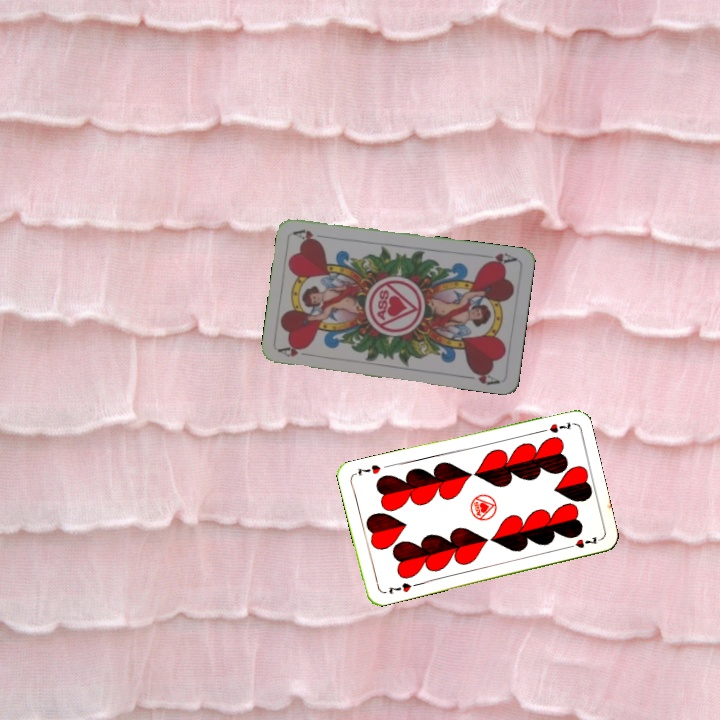H7: (535, 418, 575, 436), (384, 579, 420, 597)
HA: (478, 249, 519, 268), (275, 342, 316, 359)
